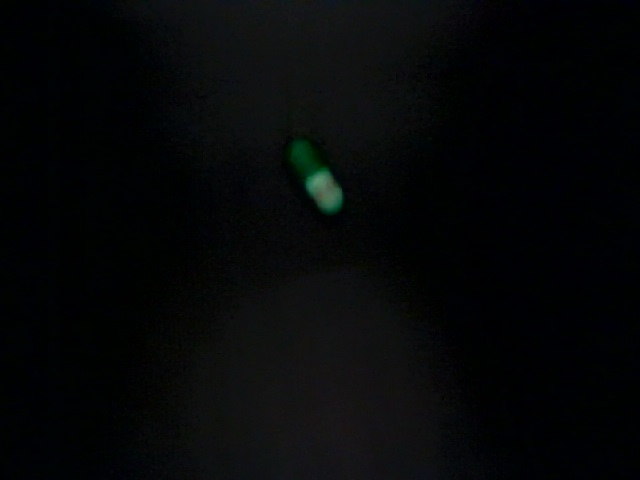YHLJ: (229, 384, 507, 460)
